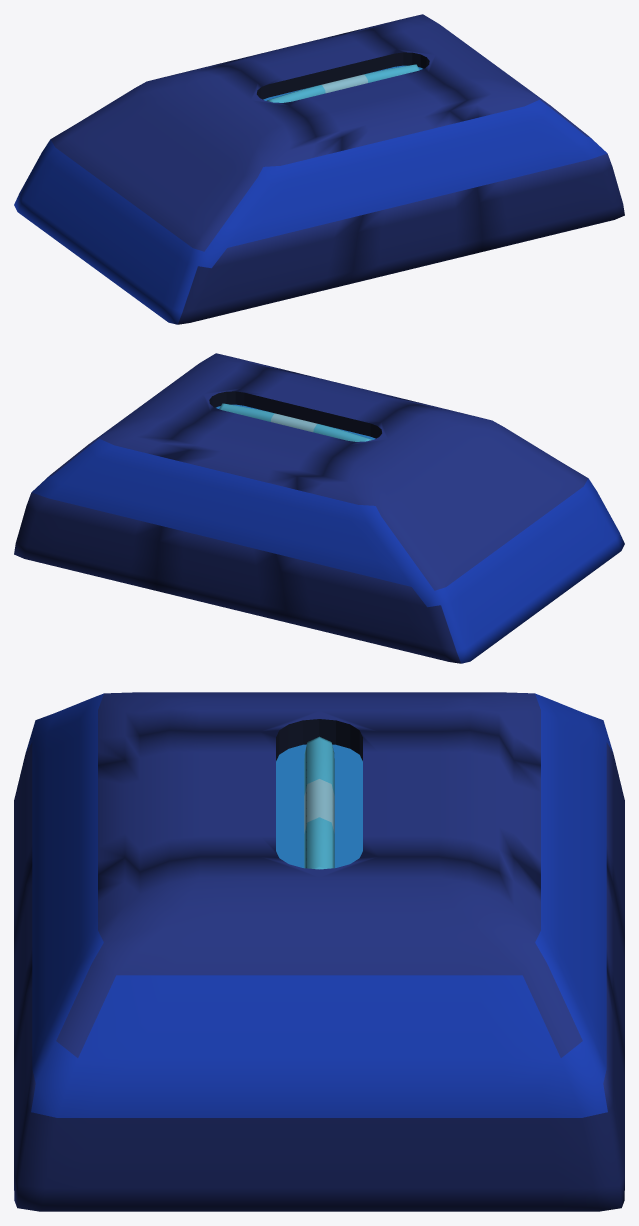
File: Bar_Plasma.glb
3 renders of one model, top to bottom at view 1: azimuth 30°, elevation 25°; view 2: azimuth 150°, elevation 25°; view 3: azimuth 270°, elevation 25°, orthographic. The views are drawn at different scales.
Parts seen in each view (by area): view 1: Bar_plasma; view 2: Bar_plasma; view 3: Bar_plasma.
Boxes of the visible parts, x1,y1,x2,y2 form: Bar_plasma: (14, 14, 624, 324); Bar_plasma: (14, 353, 624, 663); Bar_plasma: (14, 692, 624, 1211).
Size of the model in its own units: 0.93 by 0.256 by 0.5902.
